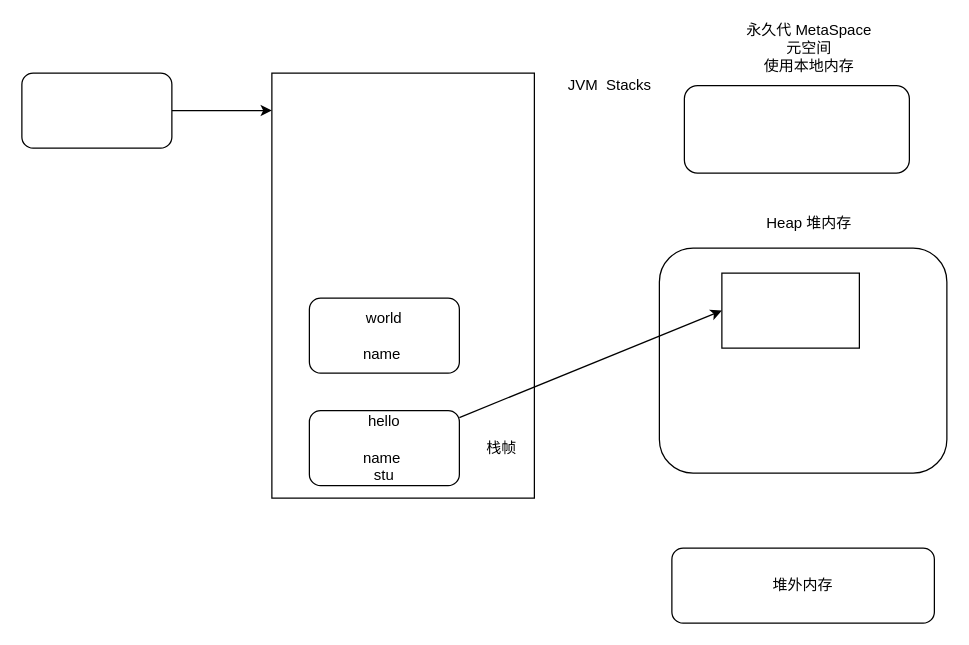
This 969x645 diagram has some shape labels left out. The centre of each missing label's shape, as x and y in pixels:
"main" belongs at (96,110).
"student对象" belongs at (790,310).
